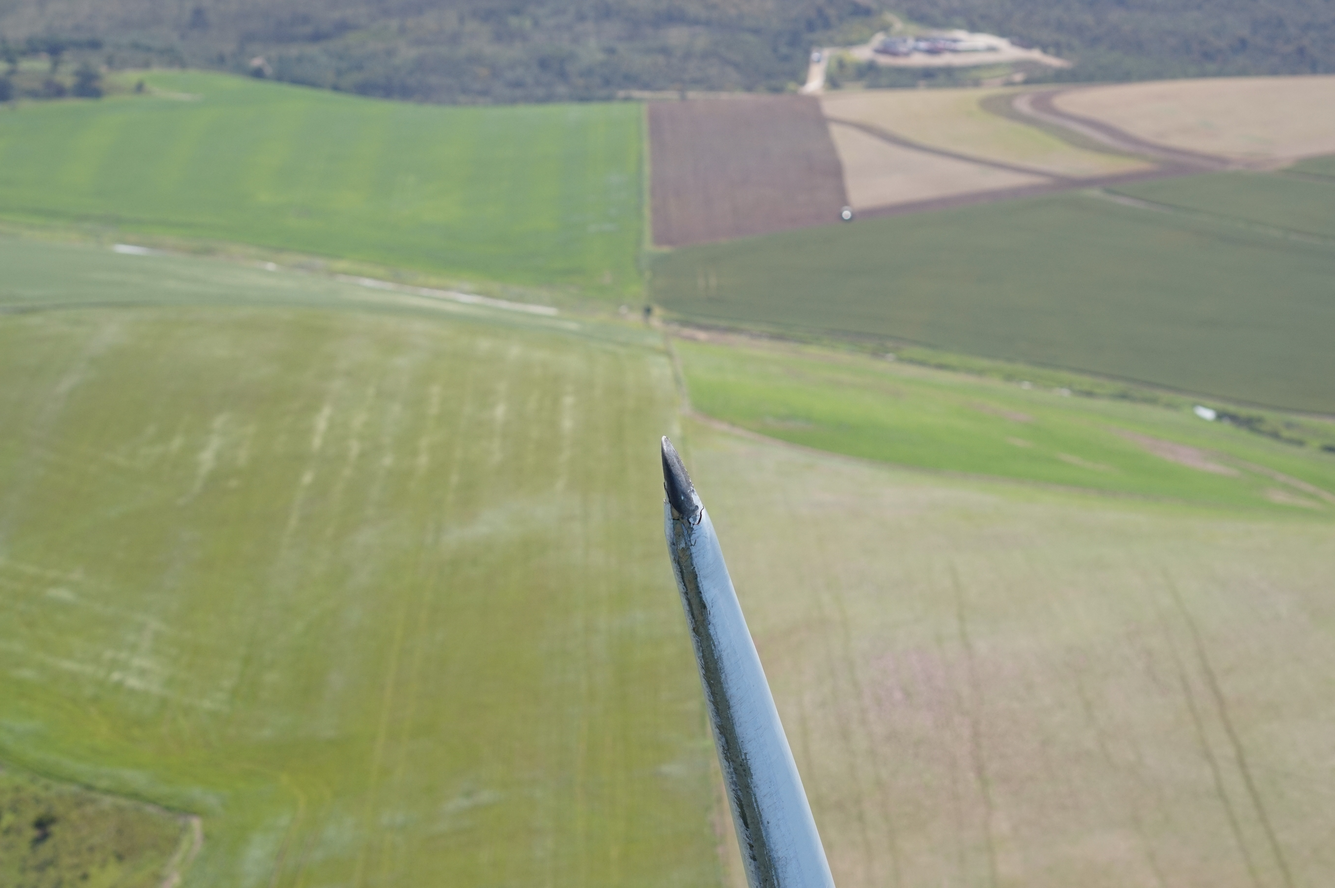Damage: (667, 507, 711, 646)
